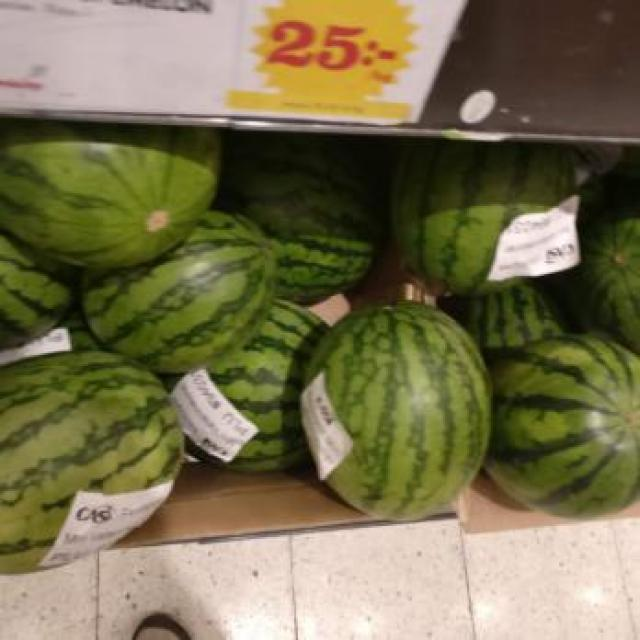Watermelon: (0, 350, 186, 576), (303, 302, 493, 519), (4, 114, 223, 268), (83, 210, 283, 374), (394, 138, 576, 296), (493, 339, 639, 519), (219, 142, 379, 304)
